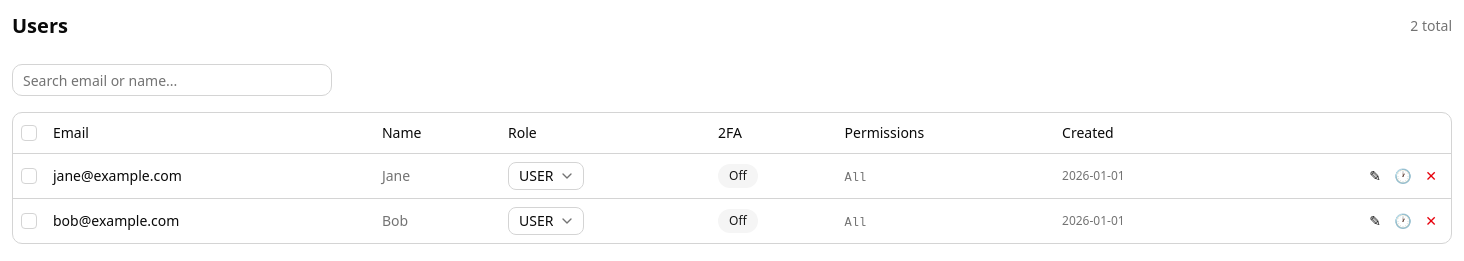
Test: AdminUsersTable › filters rows by the search input
This screenshot has width=1464, height=261.
Expected: the text "jane@example.com" is shown, [45,153,374,198]
Type "jane" into the field with placeholder "Search email or name..." at [172, 80], box [12,64,332,96]
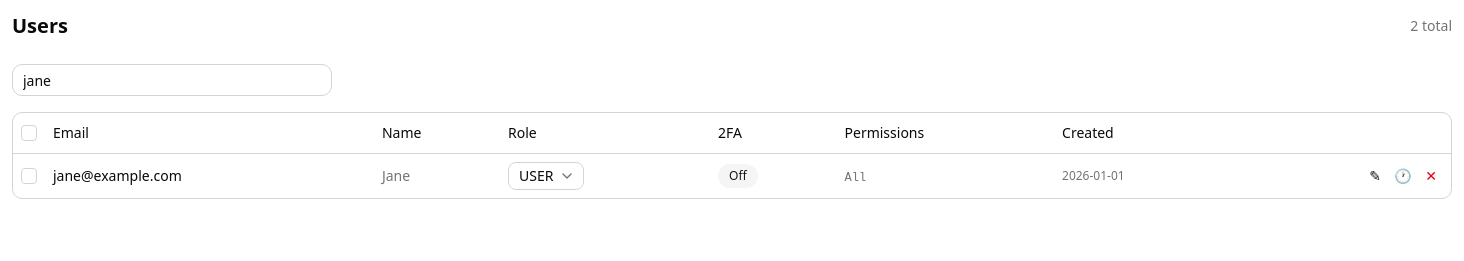
Expected: the text "jane@example.com" is shown, [45,153,374,198]
Expected: the text "bob@example.com" is gone
